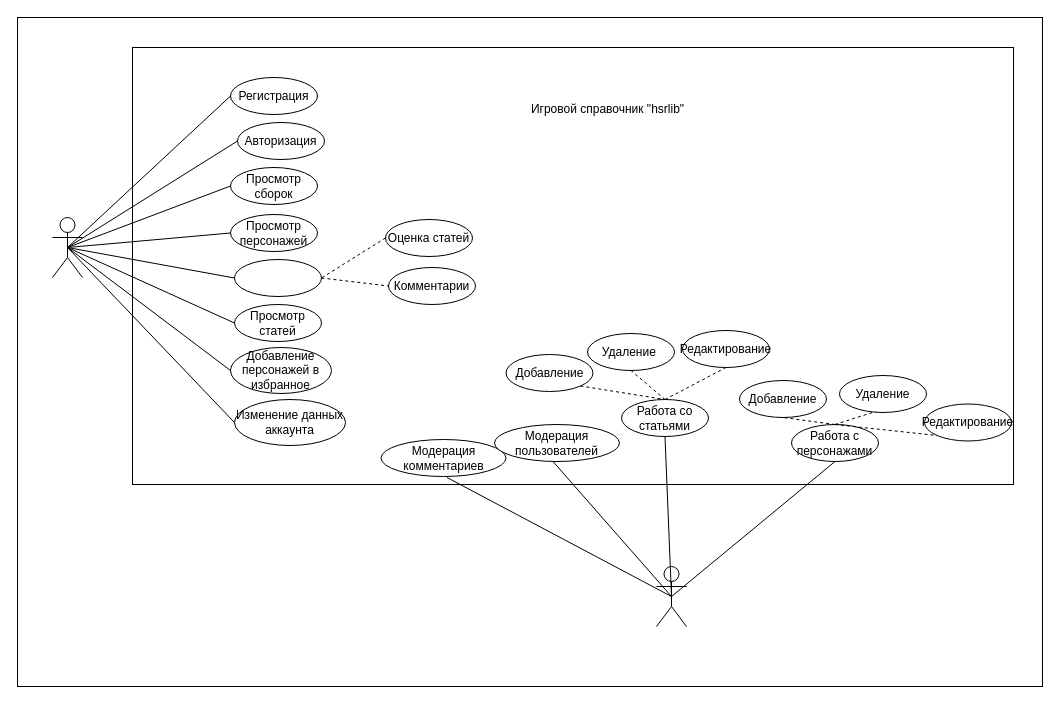
Image size: 1060x704. Some labels were removed from this diagram. The centre of each missing label's shape, as x and y in pixels:
Администратор: (x=671, y=596)
Пользователь: (x=67, y=247)
Чтение статей: (x=278, y=277)
